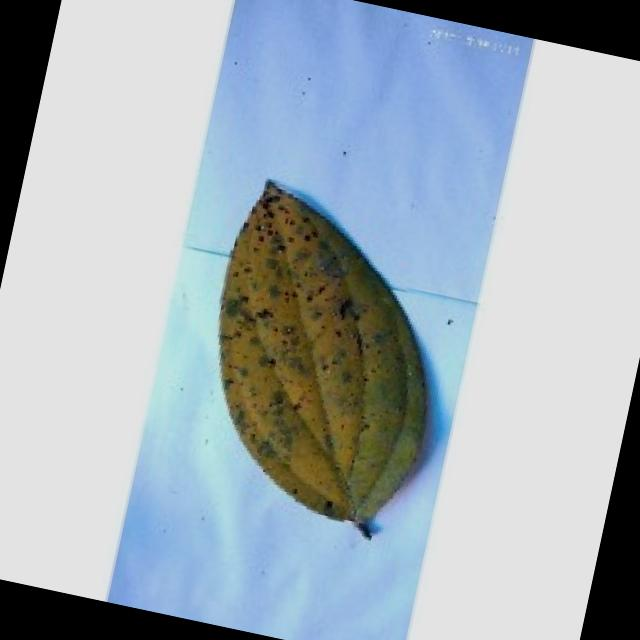slow-decline: (168, 177, 482, 562)
